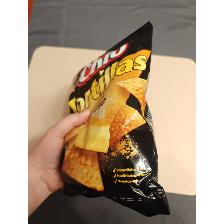Chips: (61, 20, 174, 218)
